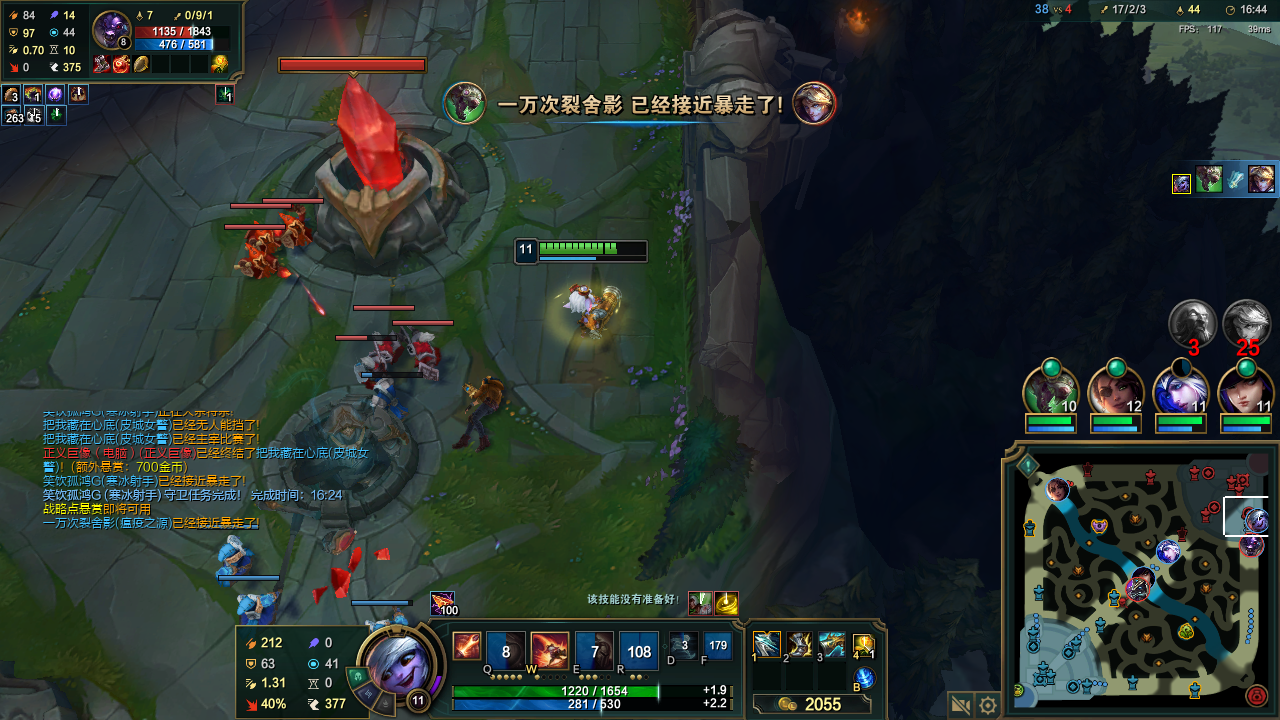DFSJ: (281, 72, 464, 266)
DFXB: (230, 239, 285, 289), (267, 202, 314, 255), (406, 332, 450, 379), (350, 344, 391, 386), (238, 217, 279, 256), (374, 326, 409, 366)
WFXB: (361, 373, 430, 441), (210, 532, 262, 582), (229, 587, 279, 621)
